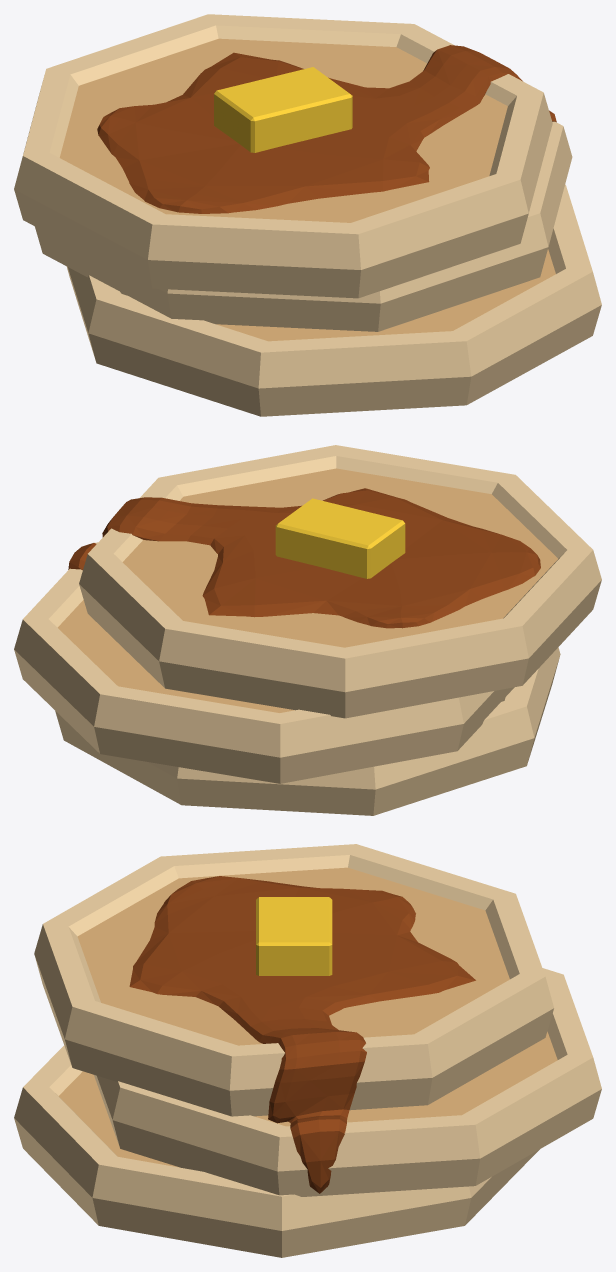
Rendered from Pancakes_Stack.obj.
The picture shows the model from 3 angles, top to bottom: view 1: azimuth 30°, elevation 25°; view 2: azimuth 150°, elevation 25°; view 3: azimuth 270°, elevation 25°; orthographic projection. The views are drawn at different scales.
Parts seen in each view (by area): view 1: Pancakes_Stack_LightBeige, Pancakes_Stack_Syrup, Pancakes_Stack_Light, Pancakes_Stack_Yellow; view 2: Pancakes_Stack_LightBeige, Pancakes_Stack_Syrup, Pancakes_Stack_Light, Pancakes_Stack_Yellow; view 3: Pancakes_Stack_LightBeige, Pancakes_Stack_Syrup, Pancakes_Stack_Light, Pancakes_Stack_Yellow.
Part boxes in pixels (x1=…): Pancakes_Stack_LightBeige: x1=14, y1=14, x2=601, y2=416; Pancakes_Stack_Syrup: x1=97, y1=45, x2=556, y2=213; Pancakes_Stack_Light: x1=59, y1=38, x2=555, y2=341; Pancakes_Stack_Yellow: x1=214, y1=67, x2=352, y2=152; Pancakes_Stack_LightBeige: x1=14, y1=445, x2=601, y2=815; Pancakes_Stack_Syrup: x1=68, y1=488, x2=540, y2=628; Pancakes_Stack_Light: x1=57, y1=468, x2=557, y2=712; Pancakes_Stack_Yellow: x1=275, y1=498, x2=405, y2=578; Pancakes_Stack_LightBeige: x1=14, y1=844, x2=601, y2=1257; Pancakes_Stack_Syrup: x1=129, y1=876, x2=475, y2=1193; Pancakes_Stack_Light: x1=59, y1=867, x2=557, y2=1167; Pancakes_Stack_Yellow: x1=256, y1=897, x2=332, y2=975.
Bounding box in the file's own units: 1.58 × 0.6374 × 1.62.
